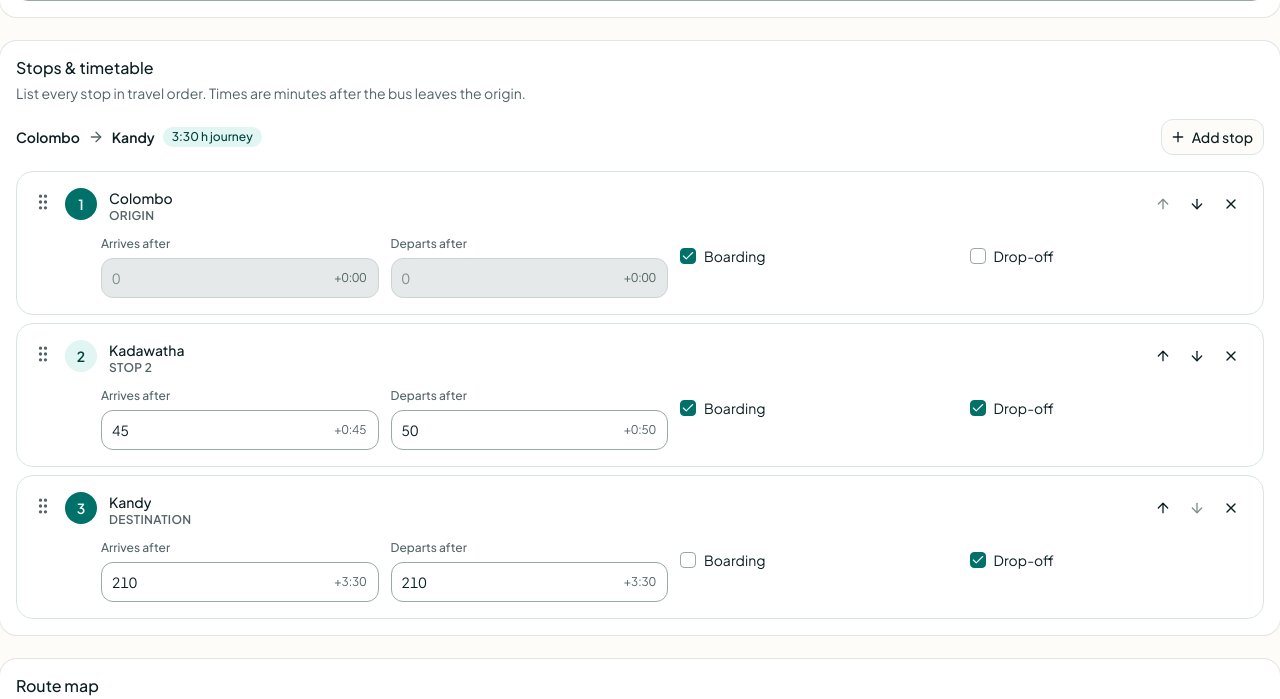
it: RouteForm › removes a stop
(page scrolled)
Click the button named "Remove Kadawatha" at (1231, 356), box [1215,340,1247,372]
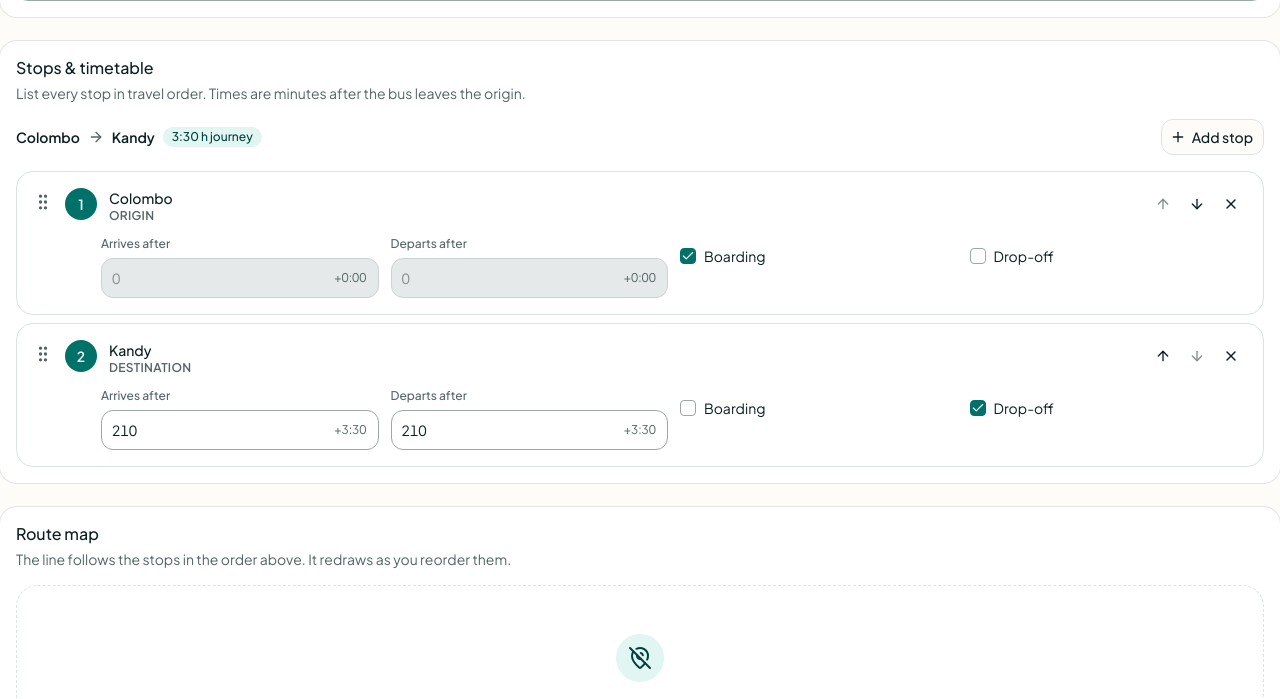
Expected: the list item that starts with "Kandy" shows "Destination", [109,360,192,375]
Now the number of list items is 2, box [16,171,1264,315]; [16,323,1264,467]
